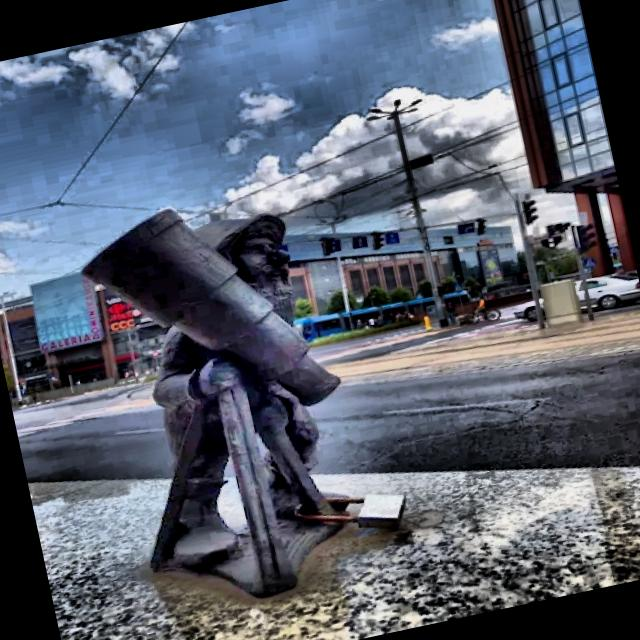Lunetyk: (82, 210, 366, 600)
